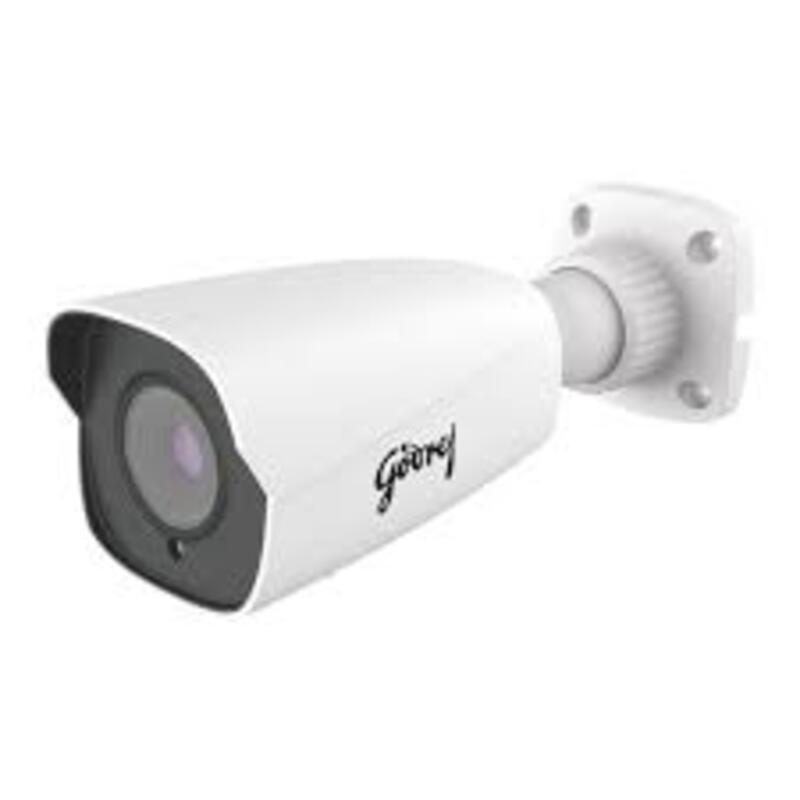bullet: (42, 283, 569, 615)
